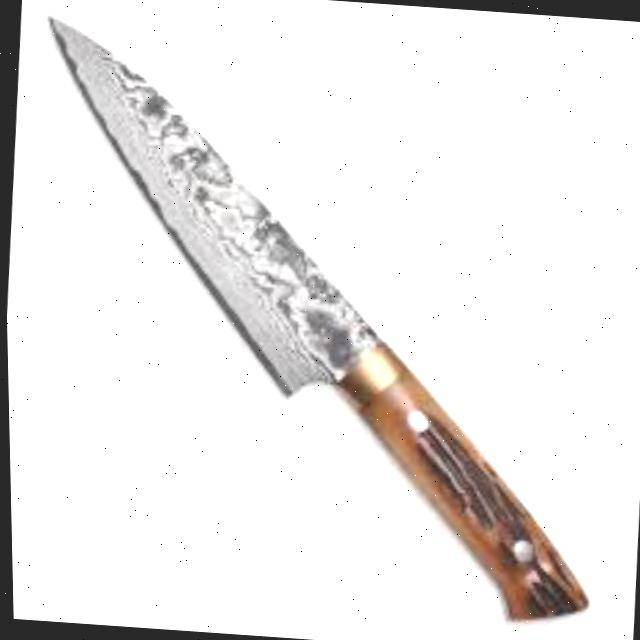knife: (7, 12, 626, 626)
